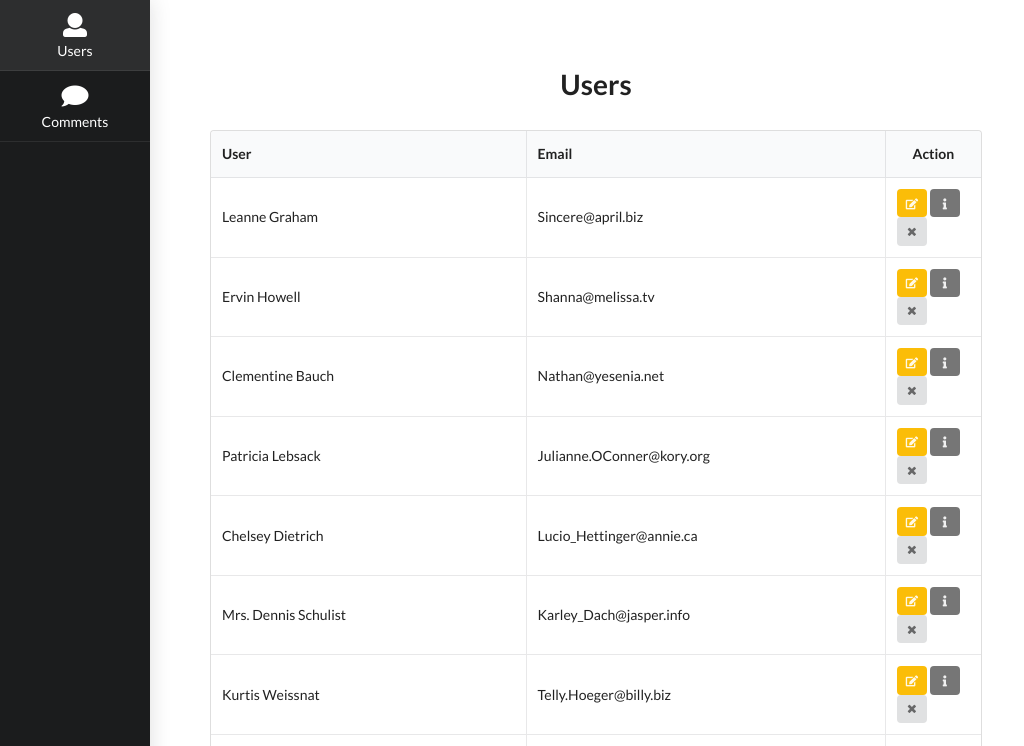
PostAction tests › should autofill in useractions posts from user with id 1
Click the button with test id "info-button-1". click: point(945, 203)
box: [930, 189, 960, 217]
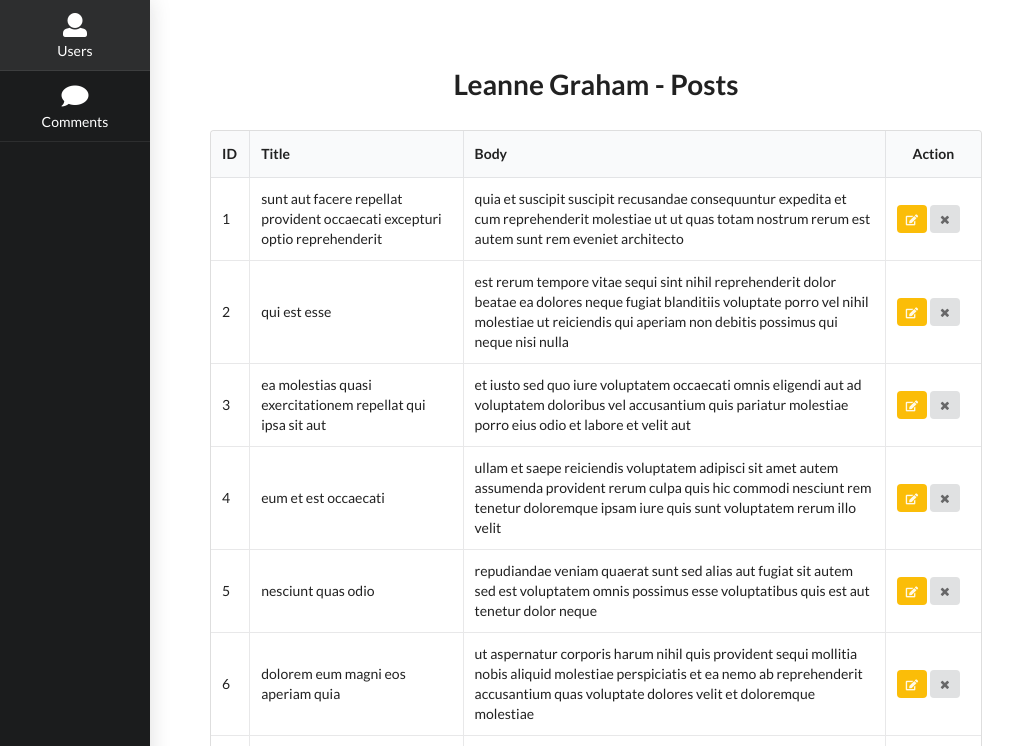
Click the button with test id "edit-button-1". click: point(912, 219)
box: [897, 205, 927, 233]
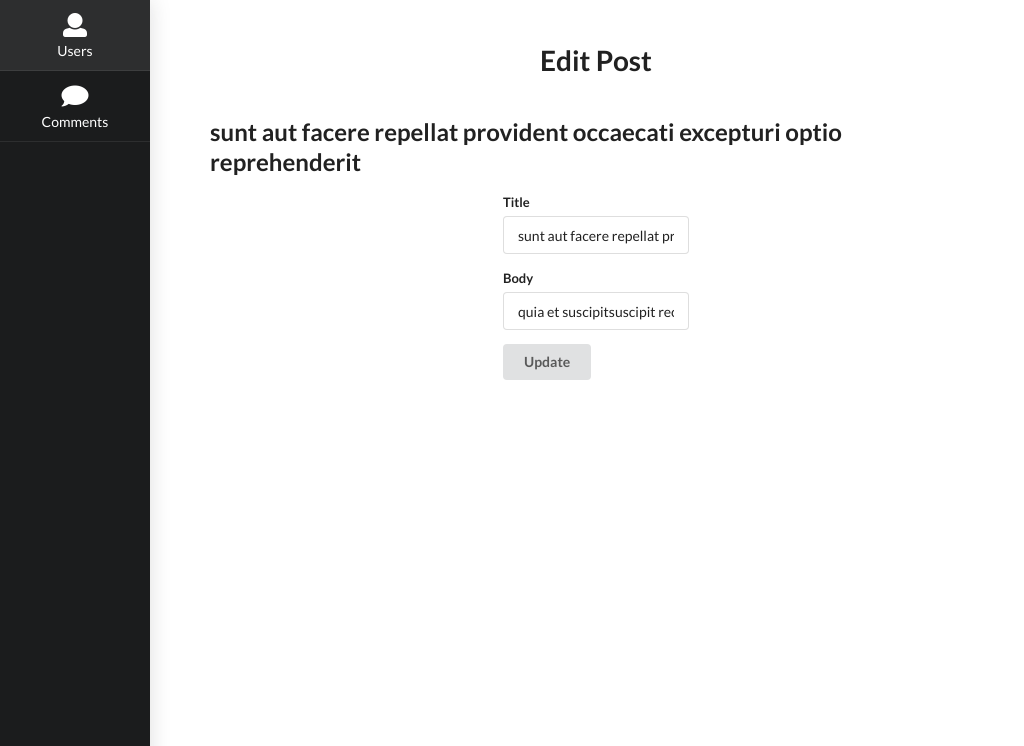
Expected: the field showing "sunt aut facere" below "Title" is shown, [503, 216, 689, 254]
